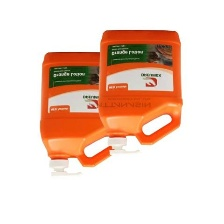book: (95, 27, 184, 158), (37, 50, 123, 179)
